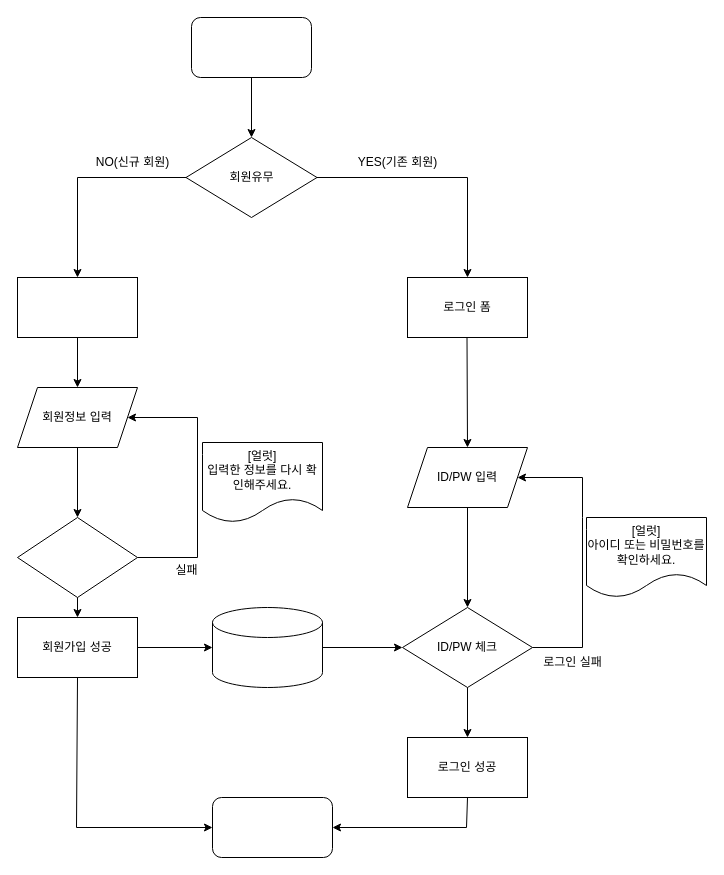
The diagram is 724 pixels wide and 875 high, and some of its shapes have lost their labels. Here are the shapes that lost their labels. From the top down, the centre of each, then its label:
At [251,47]: "시작".
At [77,307]: "회원가입 폼".
At [77,557]: "유효성 검사".
At [267,647]: "유저 DB".
At [272,827]: "메인 화면 이동".
